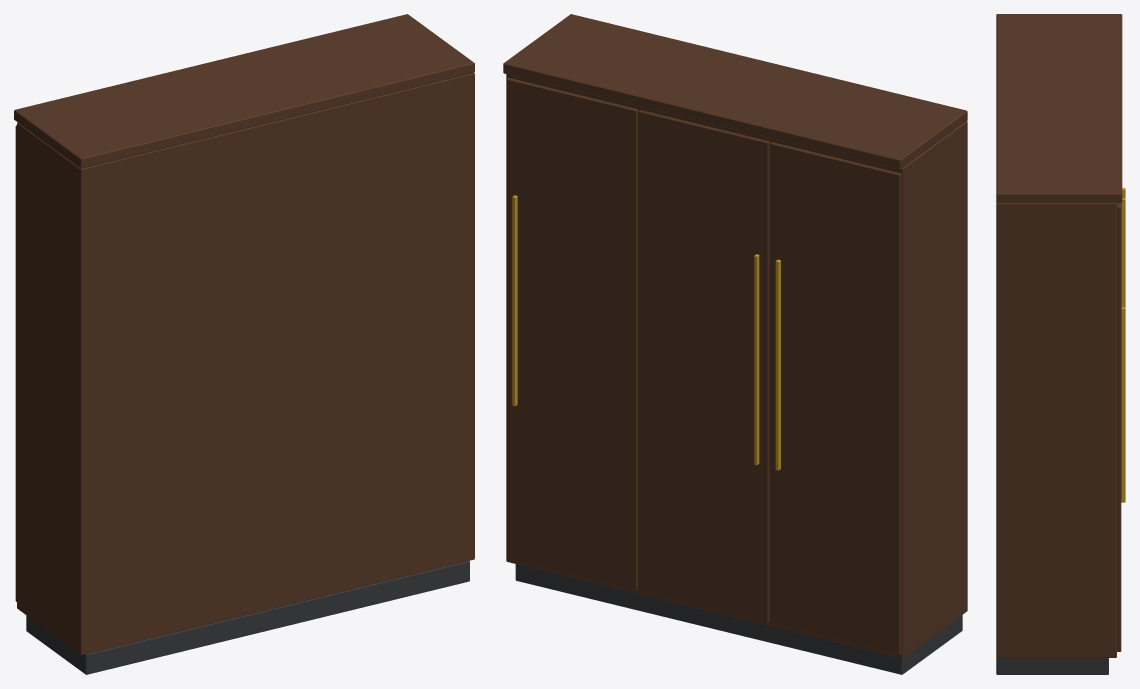
Rendered from prop_wardrobe_w160_d50.glb.
The picture shows the model from 3 angles, left to right: view 1: azimuth 30°, elevation 25°; view 2: azimuth 150°, elevation 25°; view 3: azimuth 270°, elevation 25°; orthographic projection. The views are drawn at different scales.
Visible parts, largest first — view 1: Wardrobe; view 2: Wardrobe; view 3: Wardrobe.
Boxes of the visible parts, box(x1,y1,x2,y2) form: Wardrobe: box(14, 14, 474, 674); Wardrobe: box(503, 14, 967, 674); Wardrobe: box(996, 14, 1125, 674).
Size of what is drawn, in the model's own units: 1.59 by 2 by 0.482.
